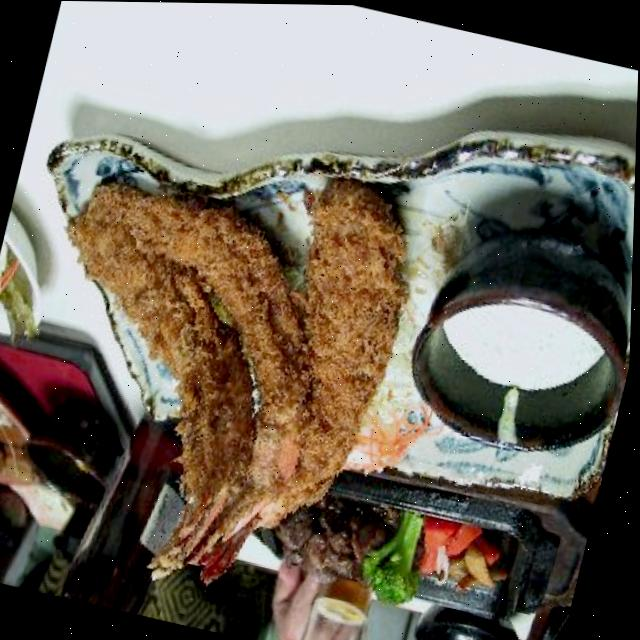炸货点心: (0, 86, 451, 634)
熟制海鲜: (0, 86, 451, 634)
